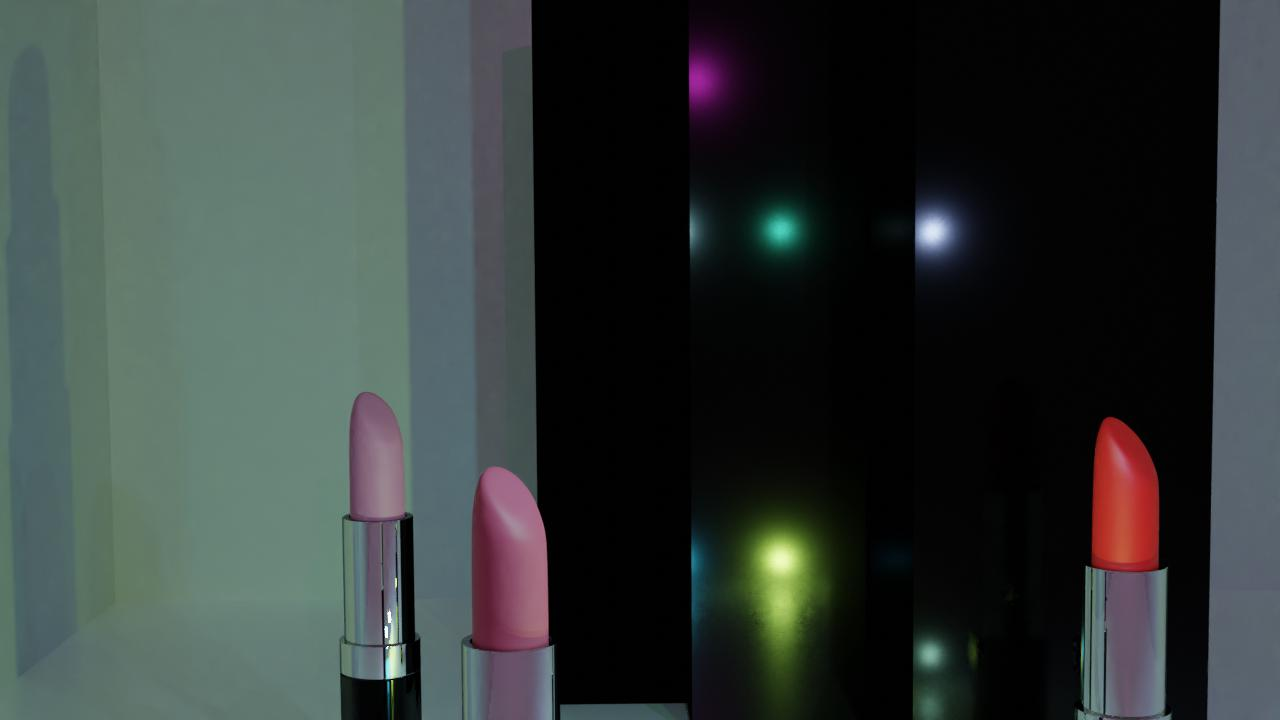CLASSIFIER_NAME: (1069, 411, 1174, 720), (455, 459, 572, 720), (338, 386, 425, 720)
